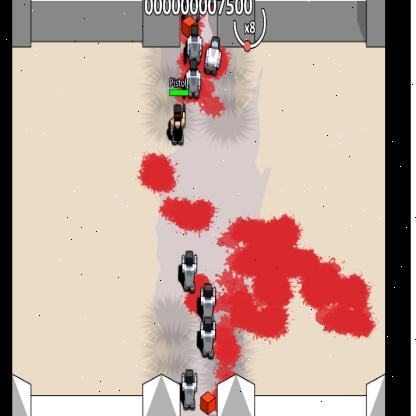agent: (169, 103, 186, 147)
jombie: (200, 317, 217, 361), (181, 251, 197, 294), (182, 368, 198, 410), (186, 26, 203, 61), (200, 282, 217, 317), (186, 60, 200, 98)
